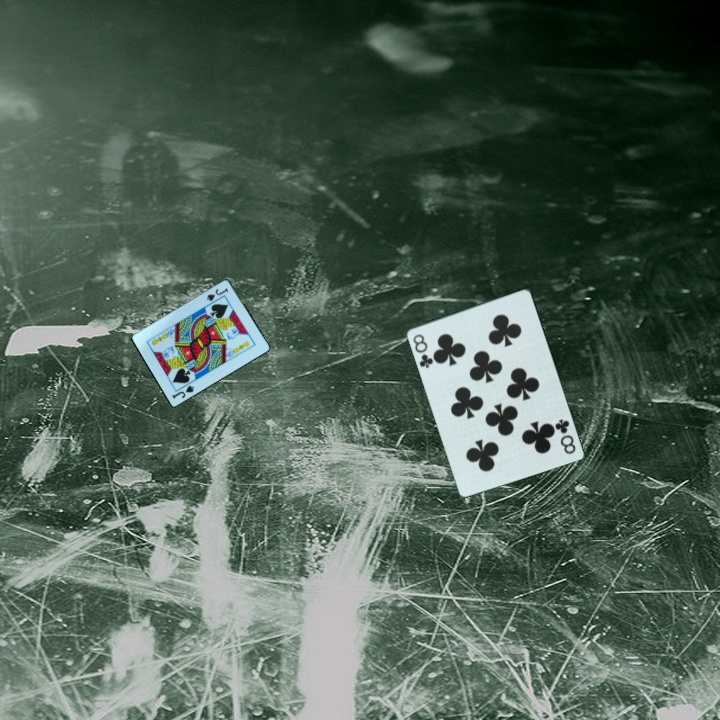8c: (552, 415, 578, 457), (409, 331, 436, 371)
Js: (203, 284, 231, 304), (169, 382, 197, 401)
